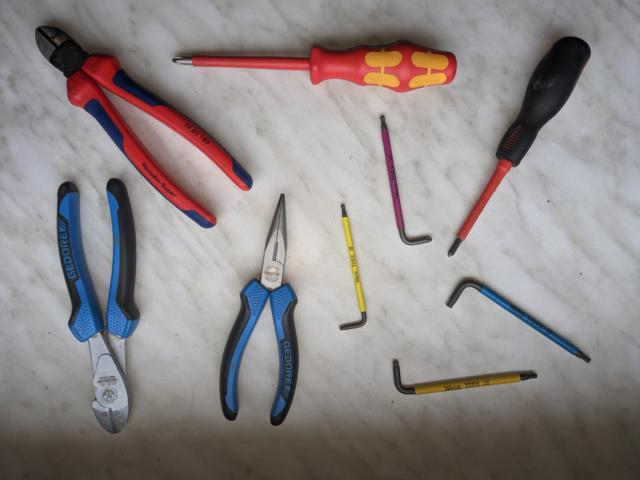Inbusschlüssel: (443, 274, 596, 366), (375, 111, 435, 247), (390, 354, 540, 399), (336, 201, 368, 333)
Schraubendreher: (445, 31, 594, 261), (169, 36, 460, 98)
Seitenschneider: (33, 22, 256, 232), (51, 175, 144, 437)
Zange: (217, 190, 302, 430)
